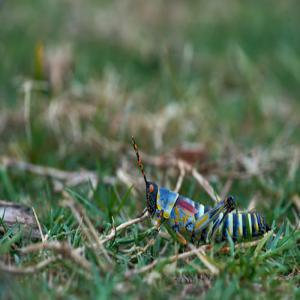locust: (144, 151, 271, 271)
